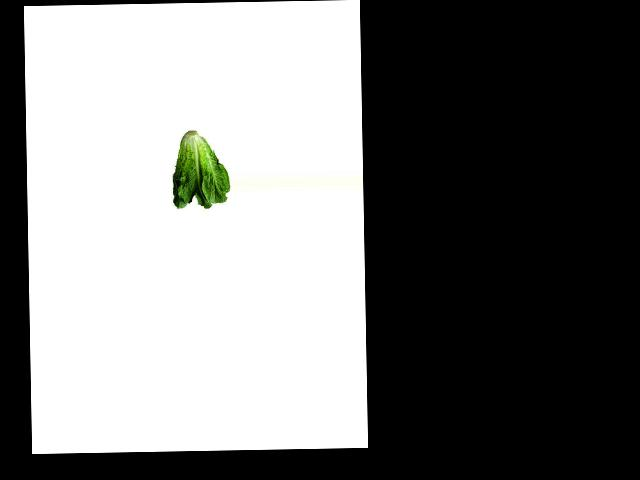lettuce: (170, 127, 229, 209)
